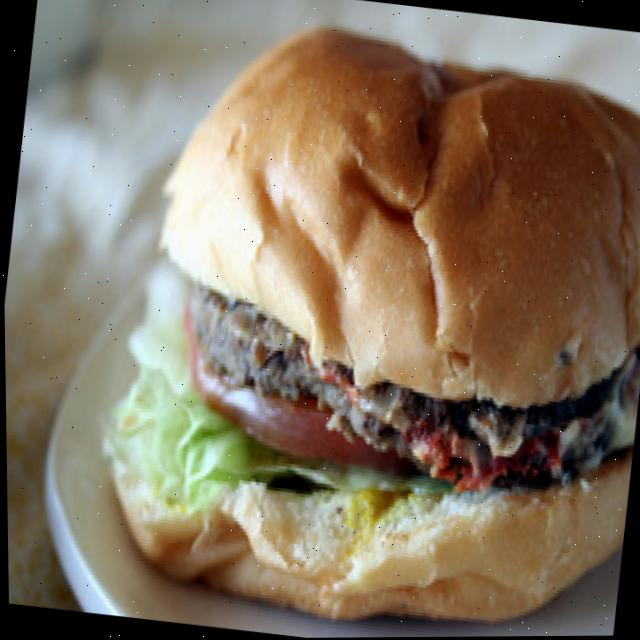汉堡快餐: (74, 0, 640, 640)
